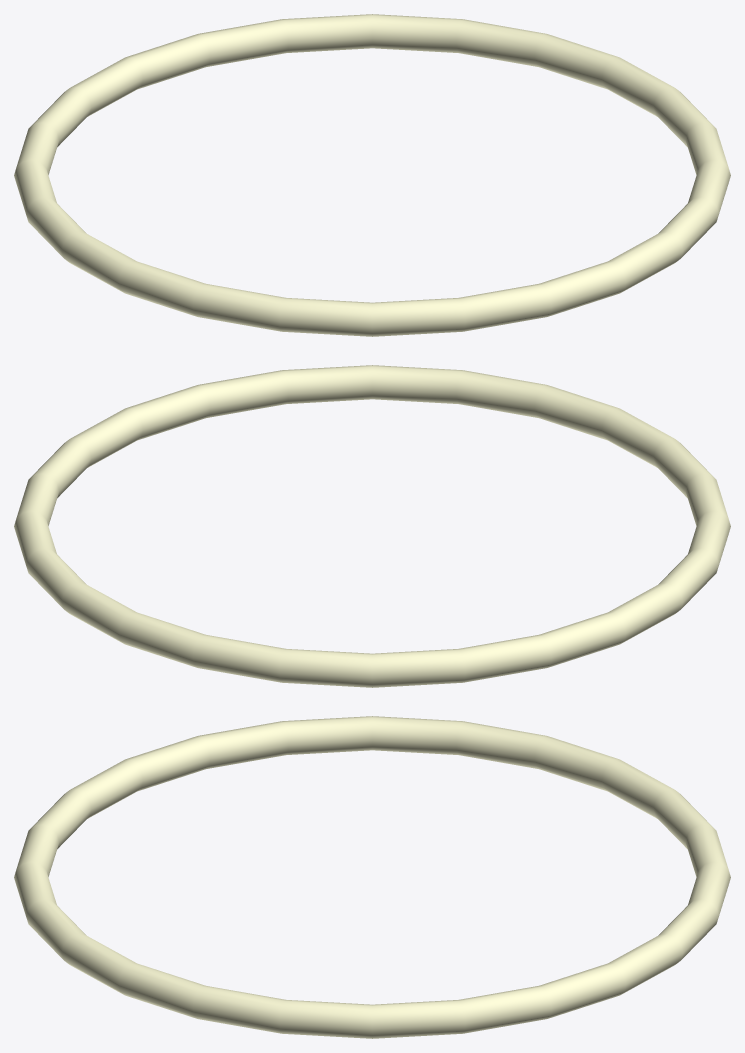
The model's file is anneau_zone.fbx.
3 renders of one model, top to bottom at view 1: azimuth 30°, elevation 25°; view 2: azimuth 150°, elevation 25°; view 3: azimuth 270°, elevation 25°, orthographic.
Visible parts, largest first — view 1: Torus001; view 2: Torus001; view 3: Torus001.
Part boxes in pixels (<box>): Torus001: <box>14,14,730,336</box>; Torus001: <box>14,365,730,687</box>; Torus001: <box>14,716,730,1038</box>.
Bounding box in the file's own units: 155 × 7.42 × 155.
